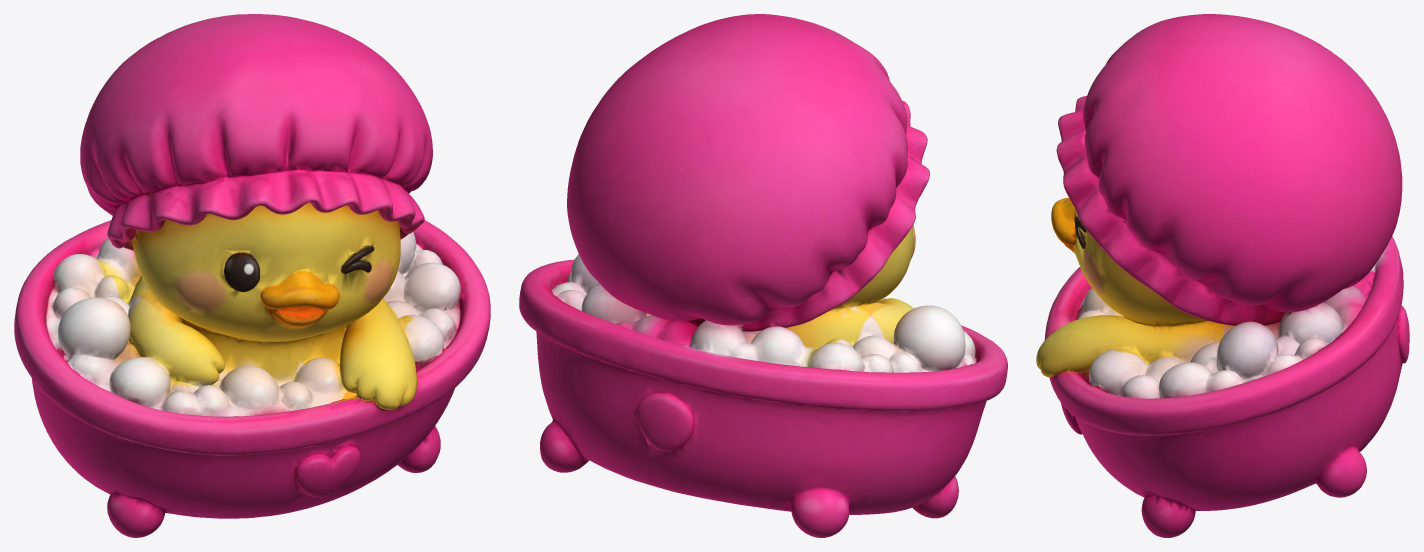
Rendered from model-mobile-v001.glb.
3 views of the same model, side by side, from view 1: azimuth 30°, elevation 25°; view 2: azimuth 150°, elevation 25°; view 3: azimuth 270°, elevation 25° (orthographic). The views are drawn at different scales.
Visible parts, largest first — view 1: tmpmf761bv2obj; view 2: tmpmf761bv2obj; view 3: tmpmf761bv2obj.
Boxes of the visible parts, box(x1,y1,x2,y2) form: tmpmf761bv2obj: box(14, 14, 490, 537); tmpmf761bv2obj: box(519, 14, 1007, 537); tmpmf761bv2obj: box(1036, 14, 1409, 537).
Bounding box in the file's own units: 0.9998 × 0.9988 × 0.7682.
1 material, 1 textured.
